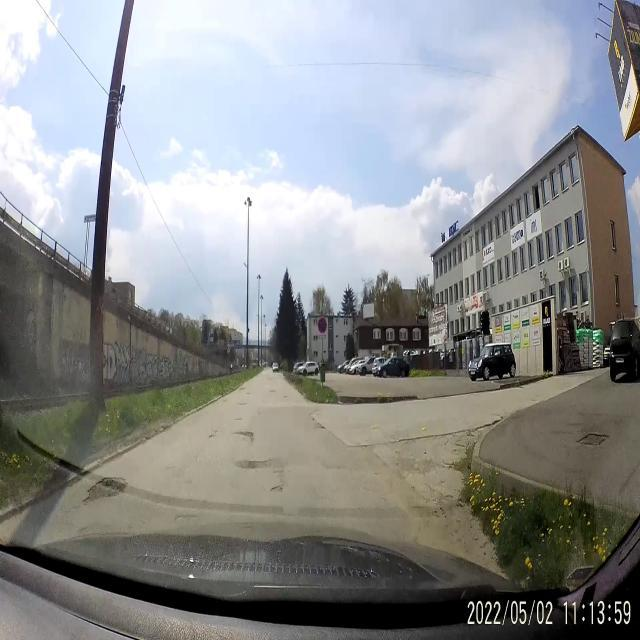Pothole: (80, 467, 128, 511), (235, 450, 275, 478), (266, 480, 288, 498), (308, 412, 326, 430), (234, 427, 254, 443), (208, 430, 218, 440), (238, 401, 248, 407), (233, 417, 244, 422), (268, 389, 276, 394), (246, 390, 251, 396), (284, 395, 288, 399)
